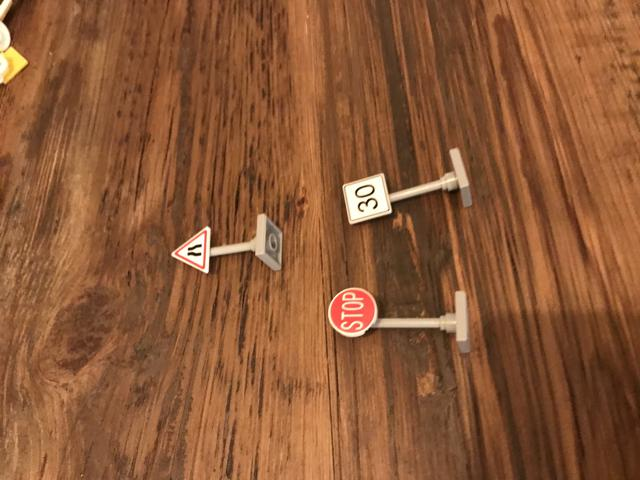stop: (326, 286, 377, 340)
tempolimit 30: (341, 171, 395, 224)
verengte fahrbahn: (172, 224, 214, 277)
